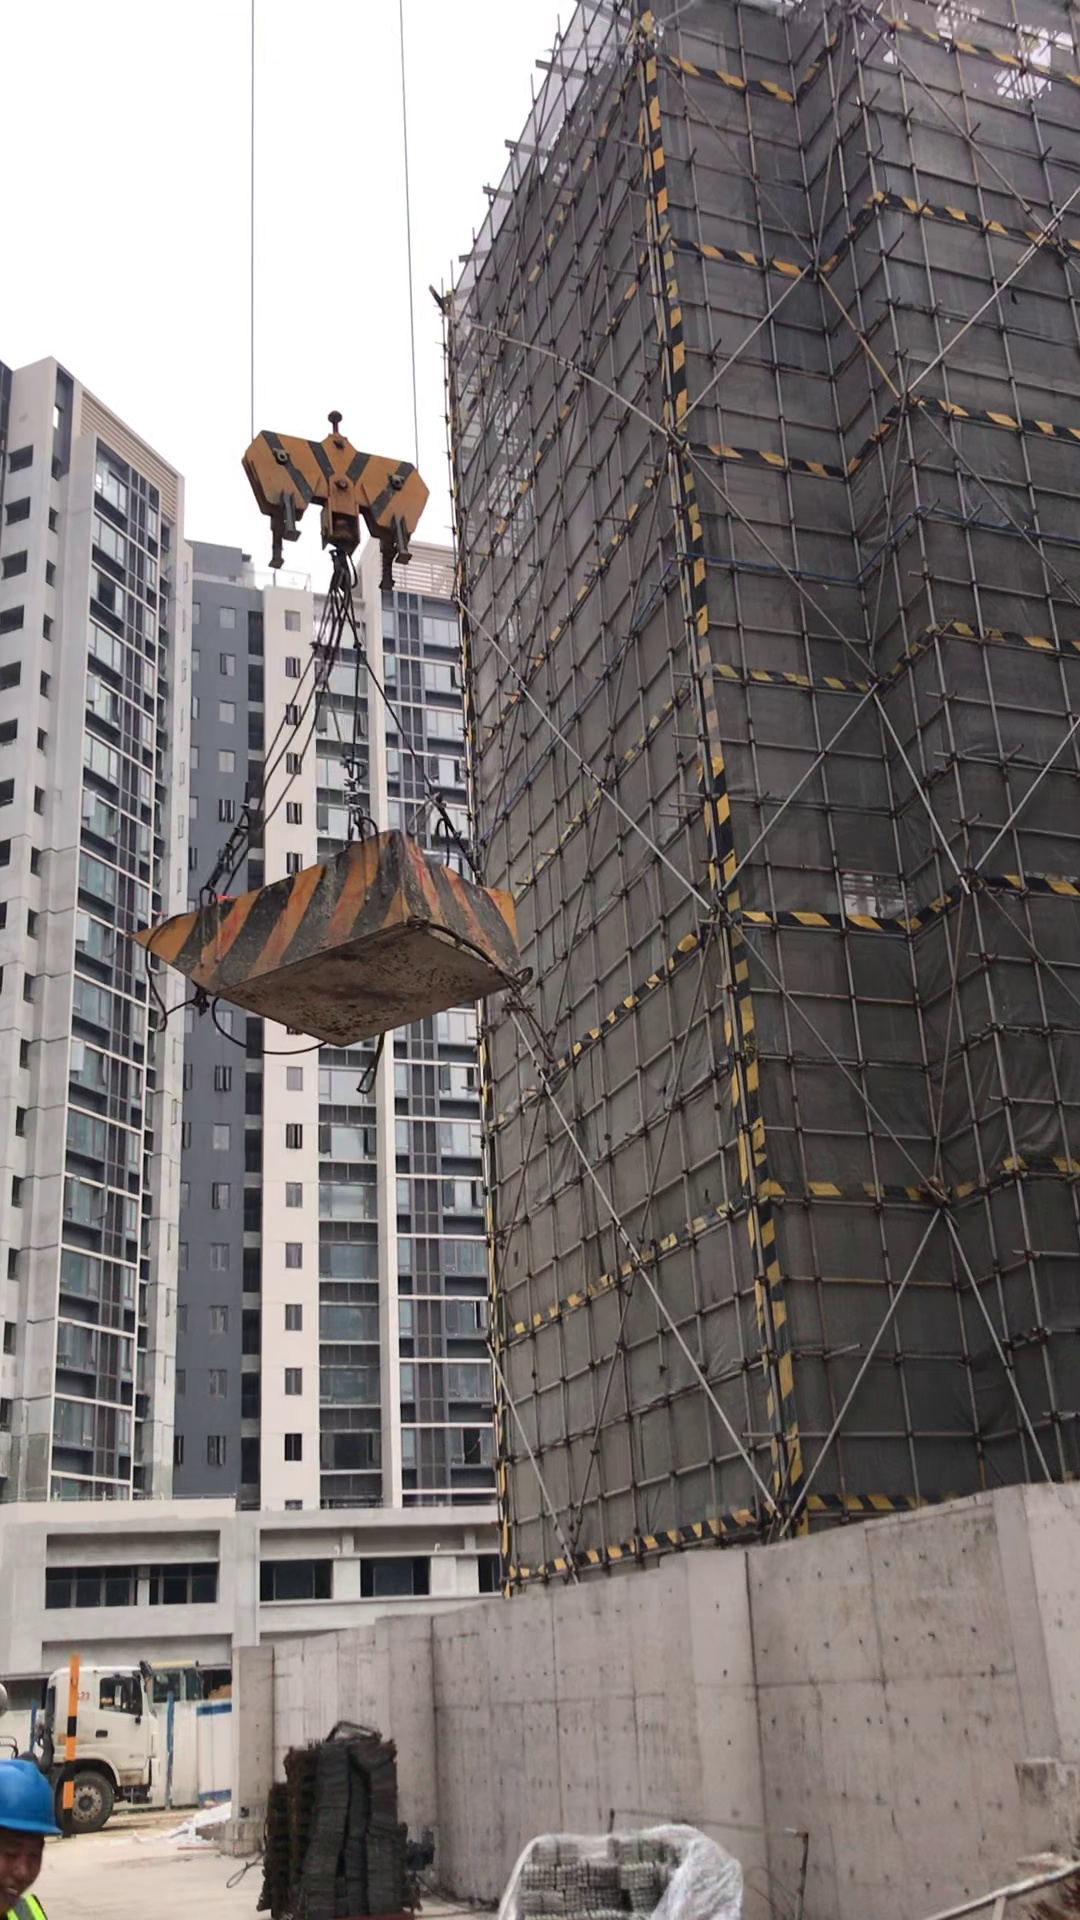helmet: (5, 1750, 59, 1851)
hook: (228, 401, 436, 586)
person: (2, 1743, 84, 1920)
